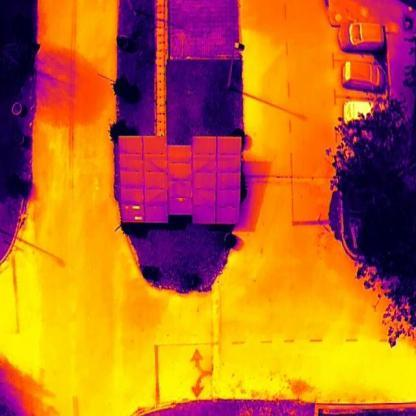anomaly: (132, 206, 140, 211), (135, 217, 143, 221)
